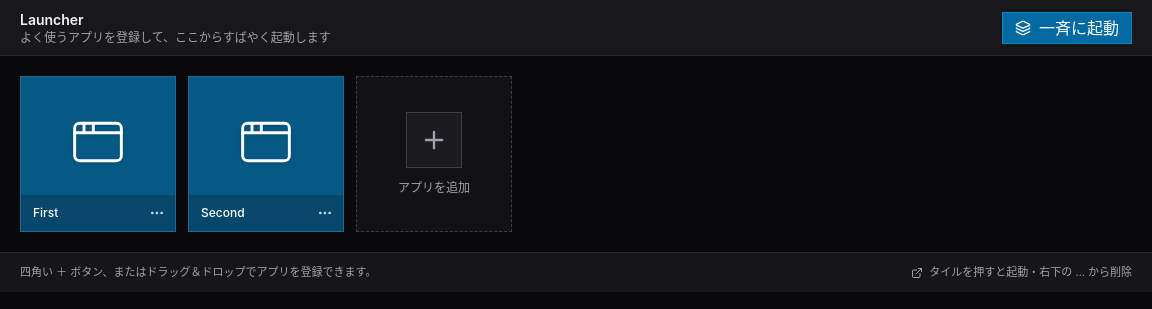
Test: closes outside, keeps only one menu, and never launches from menu interaction
The width and height of the screenshot is (1152, 309).
Click the button named "First のメニュー": coordinates (157, 213) x1=139 y1=195 x2=175 y2=231
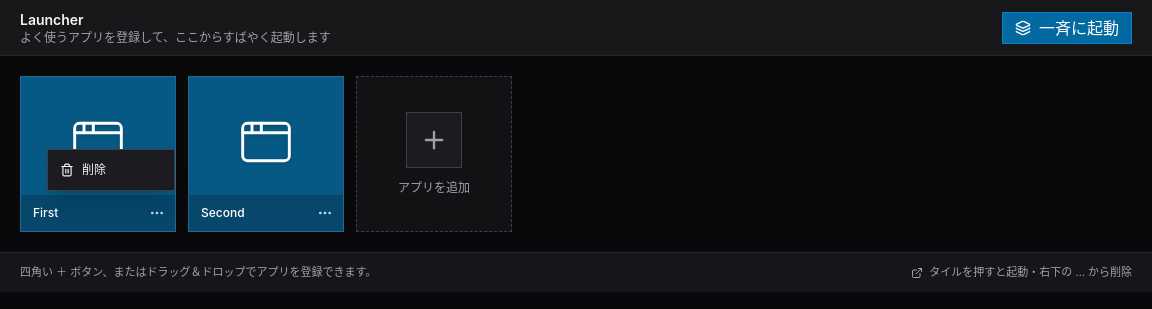
Click the button named "Second のメニュー": coordinates (325, 213) x1=307 y1=195 x2=343 y2=231
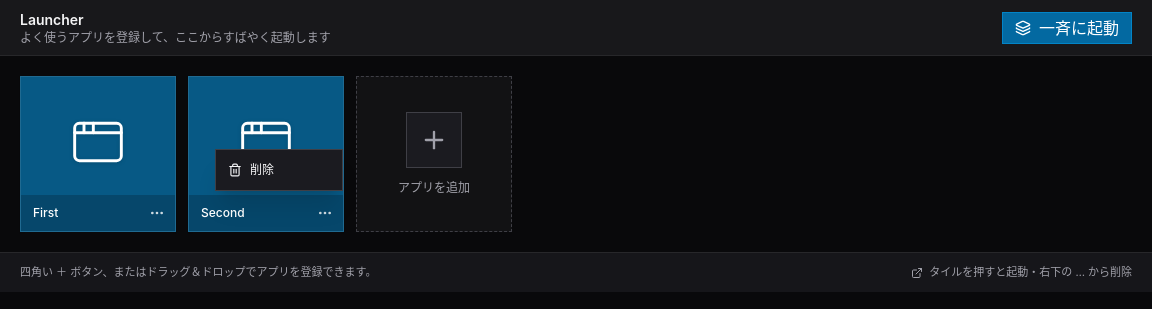
Expected: the number of menus is 1, x1=215 y1=149 x2=343 y2=191
Click the heading "Launcher": coordinates (52, 19) x1=20 y1=10 x2=84 y2=28
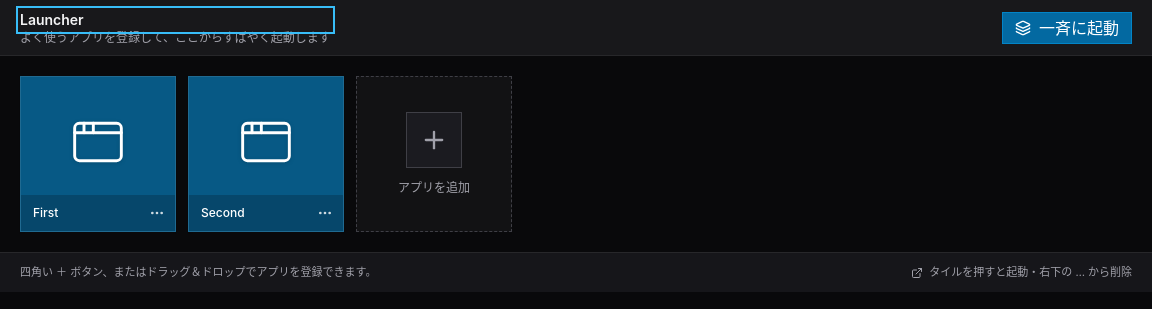
Expected: the menu is gone
